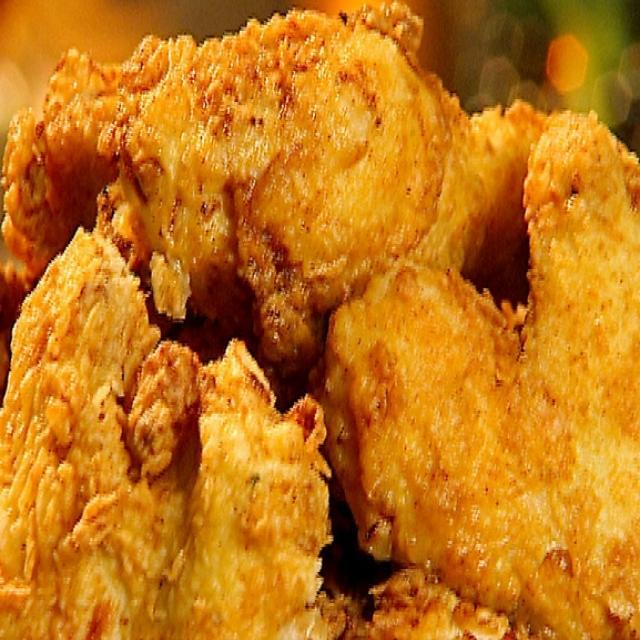Deep fried chicken wing: (9, 20, 630, 620)
